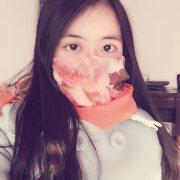OK: (56, 31, 125, 105)
